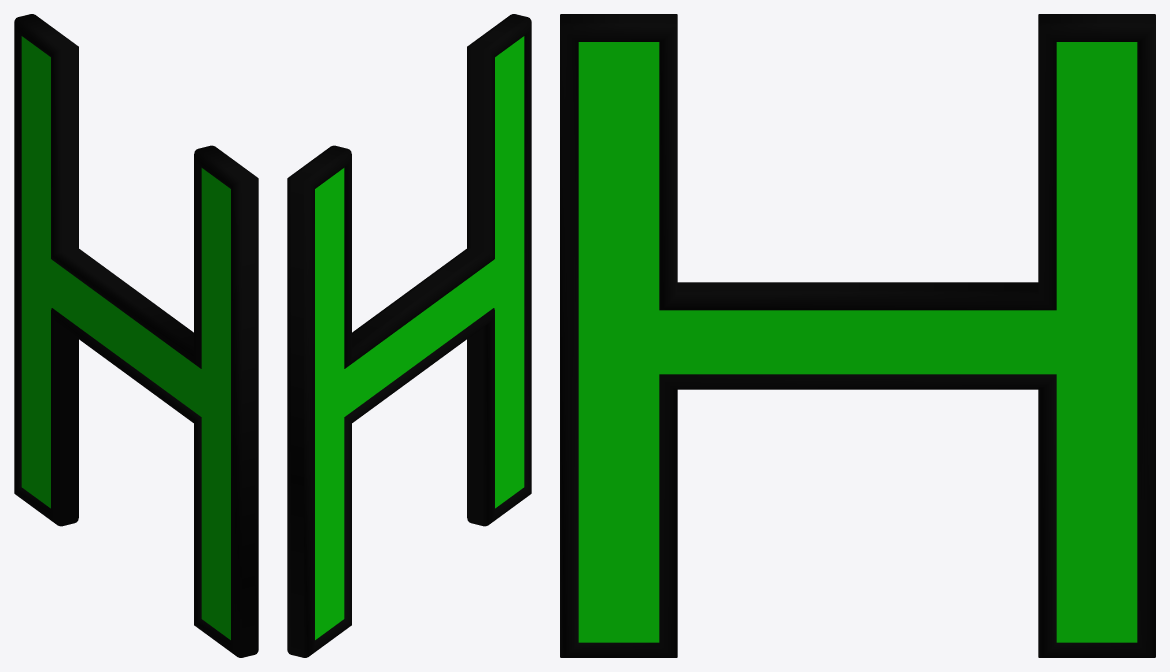
The model's file is hLetter.fbx.
3 views of the same model, side by side, from view 1: azimuth 30°, elevation 25°; view 2: azimuth 150°, elevation 25°; view 3: azimuth 270°, elevation 25° (orthographic). The views are drawn at different scales.
Visible parts, largest first — view 1: H; view 2: H; view 3: H.
Part boxes in pixels (x1,y1,x2,y2): H: (14,14,258,657); H: (287,14,531,657); H: (560,14,1155,657).
Size of the model in its own units: 0.08 by 1.4 by 1.2.
